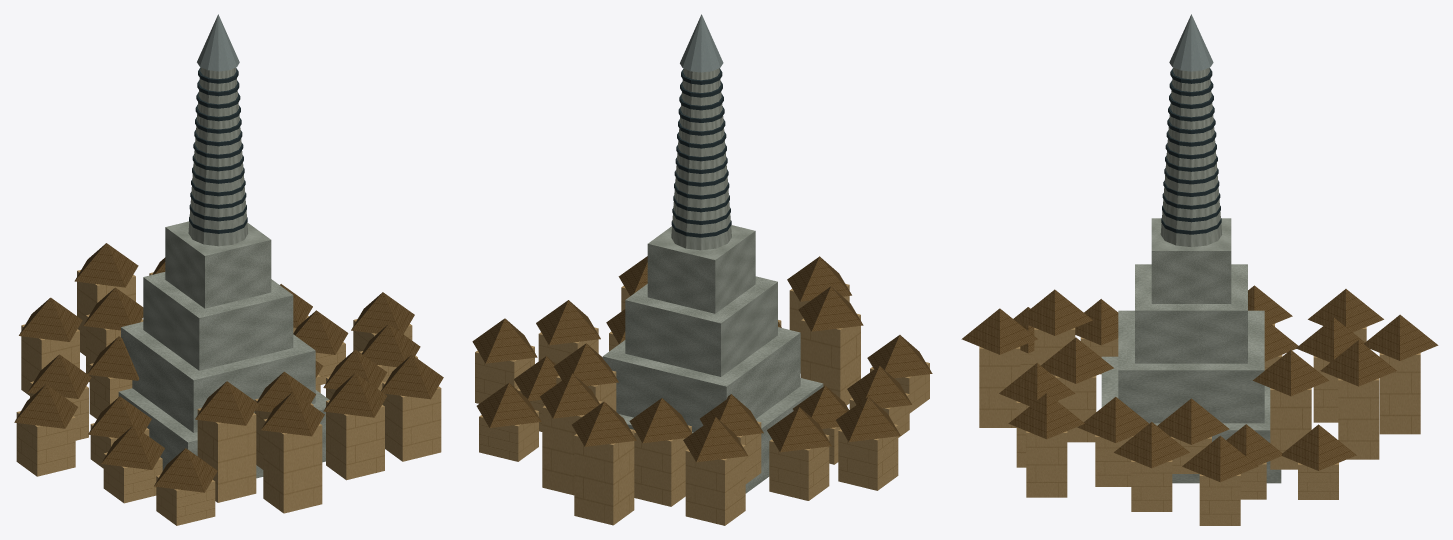
Rendered from reclaimed_temple_01.fbx.
The picture shows the model from 3 angles, left to right: view 1: azimuth 30°, elevation 25°; view 2: azimuth 150°, elevation 25°; view 3: azimuth 270°, elevation 25°; orthographic projection.
Parts seen in each view (by area): view 1: reclaimed_temple_01_LOD0; view 2: reclaimed_temple_01_LOD0; view 3: reclaimed_temple_01_LOD0.
Boxes of the visible parts, <box> form: reclaimed_temple_01_LOD0: <box>14,14,443,525</box>; reclaimed_temple_01_LOD0: <box>472,14,932,525</box>; reclaimed_temple_01_LOD0: <box>961,14,1438,525</box>.
Size of what is drawn, in the model's own units: 1 by 1 by 1.
